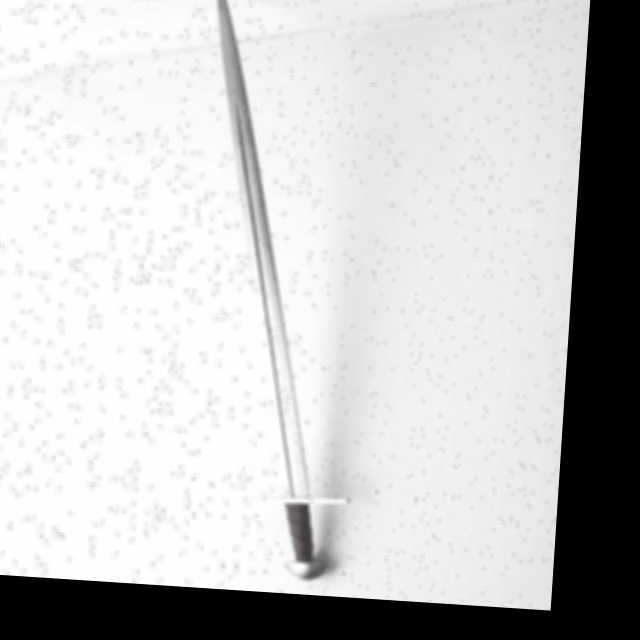Sharp-Object: (178, 0, 358, 596)
